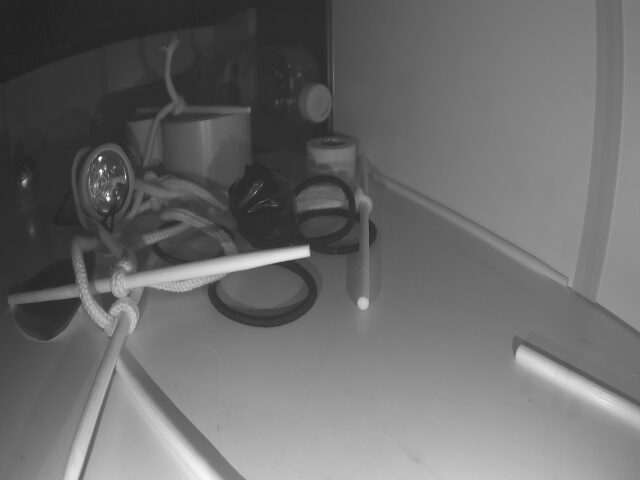Dead: (227, 160, 304, 254)
Live: (12, 157, 40, 210)
